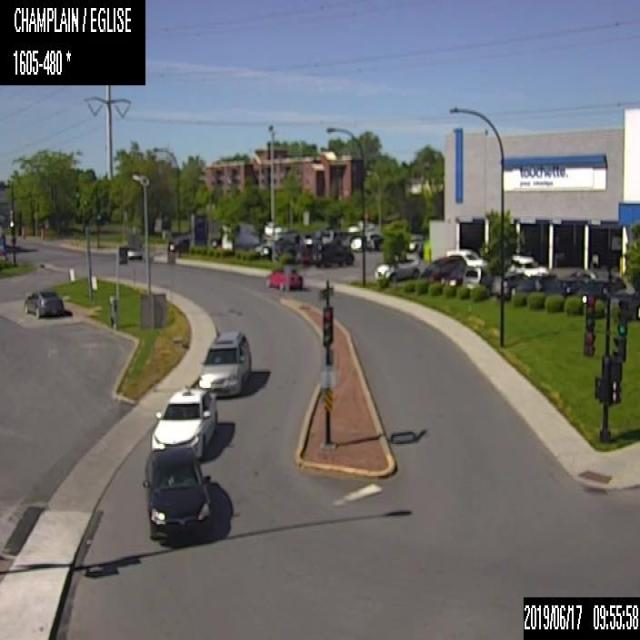vehicle: (143, 444, 212, 542), (151, 384, 217, 459), (198, 329, 251, 394), (373, 253, 419, 282), (510, 272, 558, 298), (23, 288, 64, 317), (421, 254, 464, 281), (220, 222, 258, 250), (256, 231, 298, 256), (312, 240, 352, 266), (492, 271, 528, 299), (167, 234, 216, 254), (586, 274, 626, 298), (266, 266, 303, 289), (444, 246, 486, 266), (508, 252, 546, 274), (548, 276, 585, 298), (610, 290, 639, 318), (296, 236, 321, 266), (463, 266, 493, 289), (570, 267, 596, 280), (408, 233, 423, 252), (127, 241, 142, 259), (348, 234, 362, 251), (366, 231, 381, 246), (370, 237, 383, 250)
